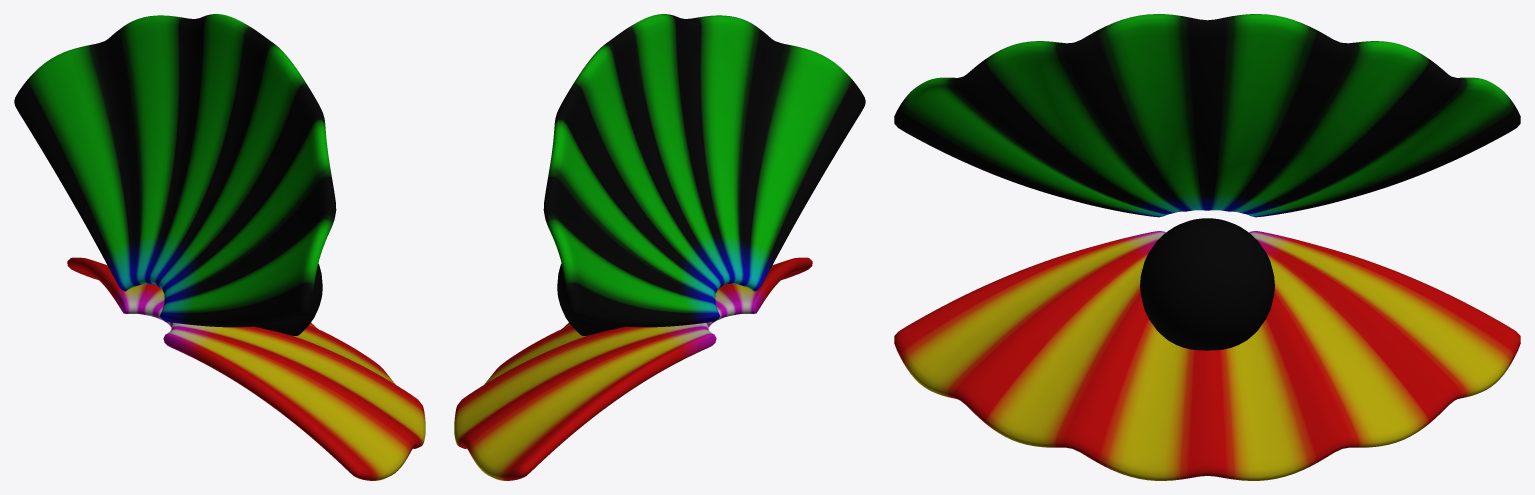
File: pearl.glb
3 views of the same model, side by side, from view 1: azimuth 30°, elevation 25°; view 2: azimuth 150°, elevation 25°; view 3: azimuth 270°, elevation 25° (orthographic). The views are drawn at different scales.
Visible parts, largest first — view 1: Shell, pearl; view 2: Shell, pearl; view 3: Shell, pearl.
Part boxes in pixels (left/top/right/bottom): Shell: left=14, top=14, right=425, bottom=480; pearl: left=255, top=263, right=322, bottom=335; Shell: left=454, top=14, right=865, bottom=480; pearl: left=557, top=263, right=624, bottom=335; Shell: left=894, top=14, right=1520, bottom=480; pearl: left=1140, top=218, right=1274, bottom=350.
Bounding box in the file's own units: 0.3806 × 0.5638 × 0.7892.
